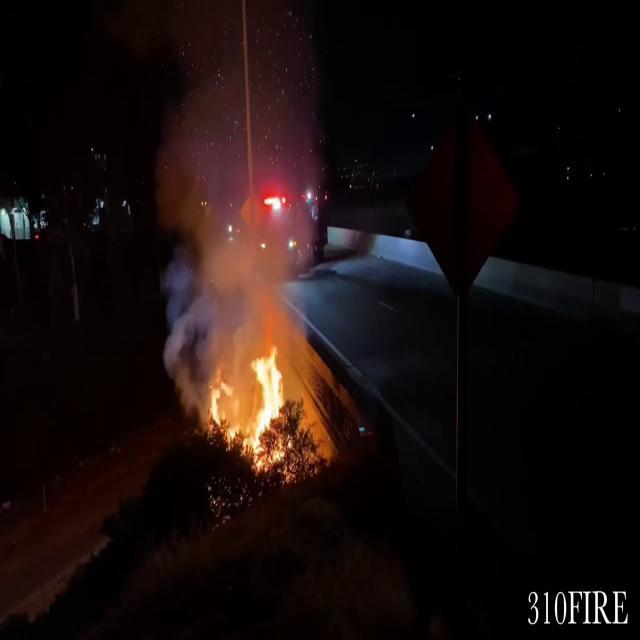Fire: (240, 342, 292, 460)
Smoke: (147, 7, 330, 359)
